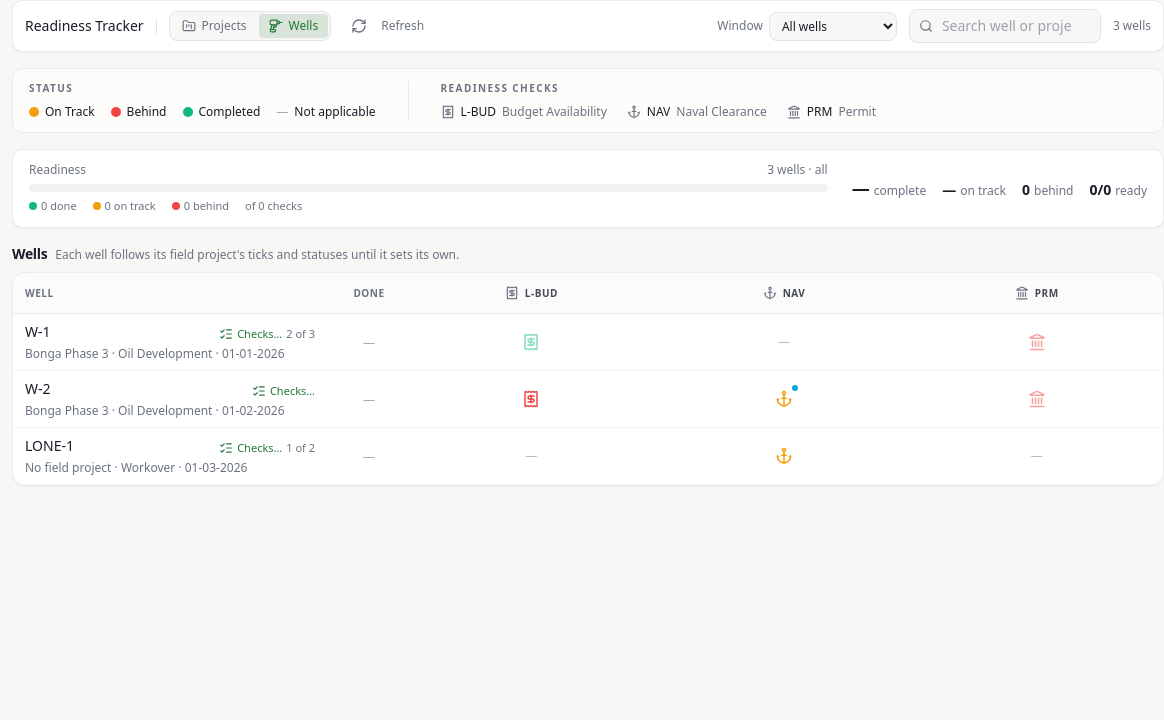
Logistics grid — checks that apply › offers On Track, Behind and Completed in a team check's menu — no N/A
The width and height of the screenshot is (1164, 720).
Click the button titled "Budget Availability" at point(531, 342), box [517,328,545,356]
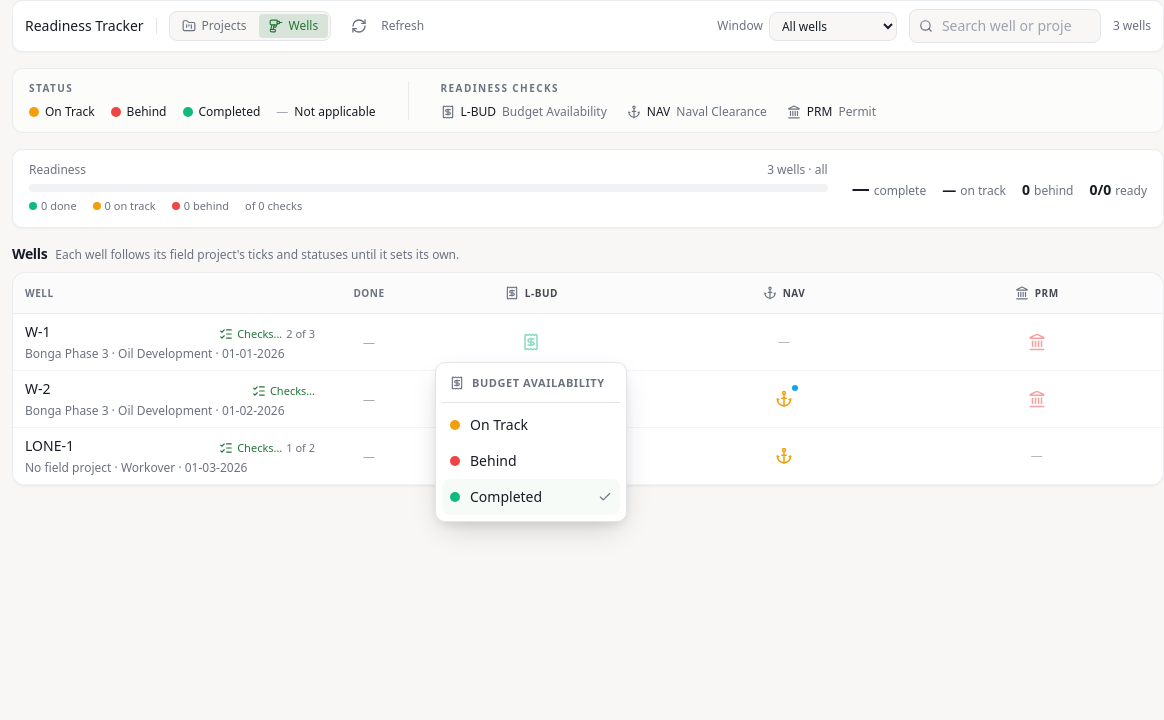
Check: the menu items read "On Track", "Behind", "Completed", in this order, box [450,414,528,434]; [450,450,516,470]; [442,478,620,514]
